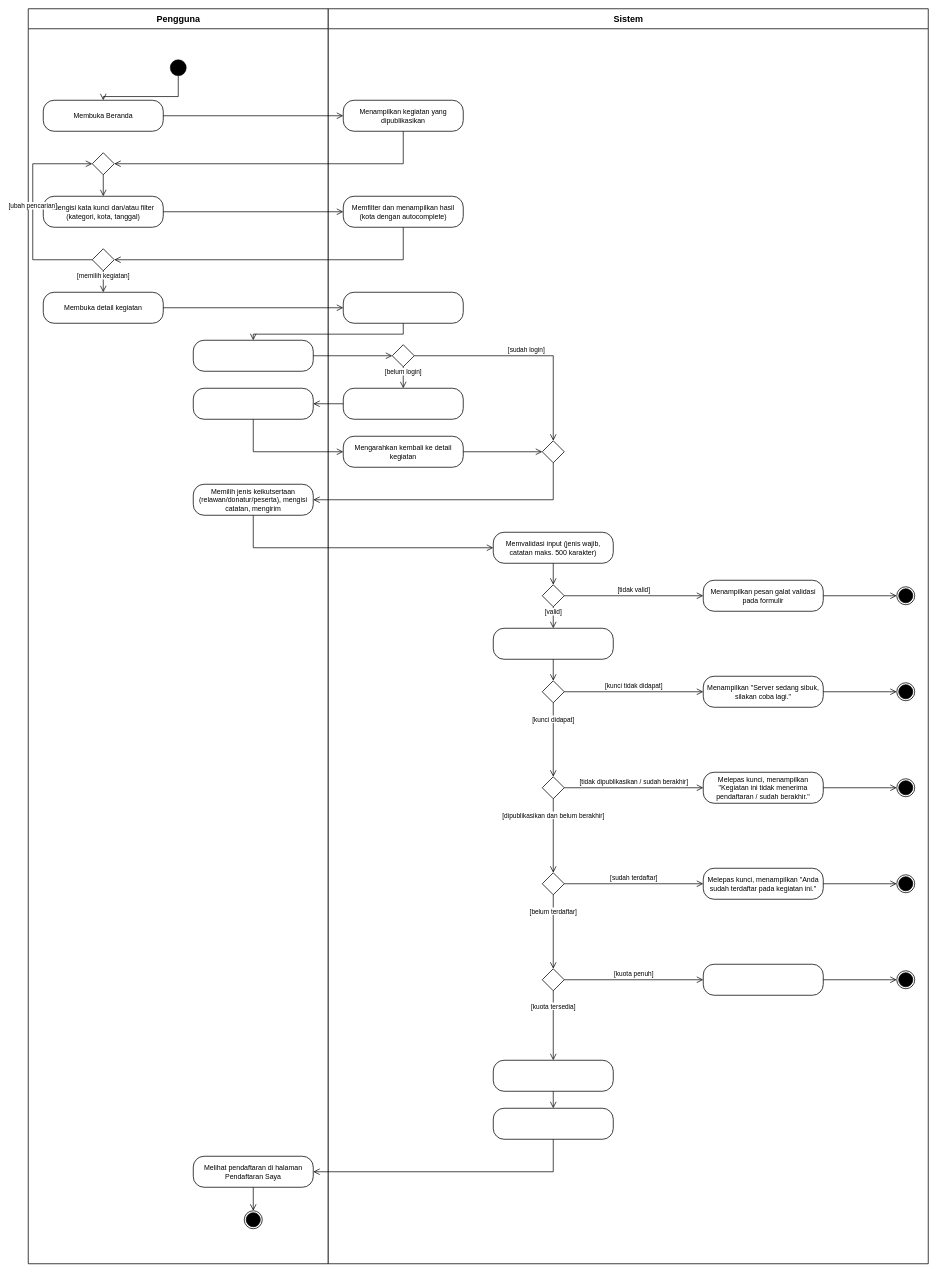
This 938x1273 diagram has some shape labels left out. Here are the shapes that lost their labels. From the top down, the centre of each, then its label:
point (403, 307): Menampilkan detail kegiatan dan sisa kuota
point (253, 355): Menekan tombol Daftar
point (253, 403): Melakukan login
point (403, 403): Mengarahkan ke halaman Masuk
point (553, 643): Mengunci data kegiatan (Cache::lock dan lockForUpdate)
point (763, 979): Melepas kunci, menampilkan "Maaf, kuota kegiatan ini sudah penuh."
point (553, 1075): Menyimpan pendaftaran (status terkonfirmasi)
point (553, 1123): Melepas kunci dan menampilkan "Pendaftaran berhasil!"
